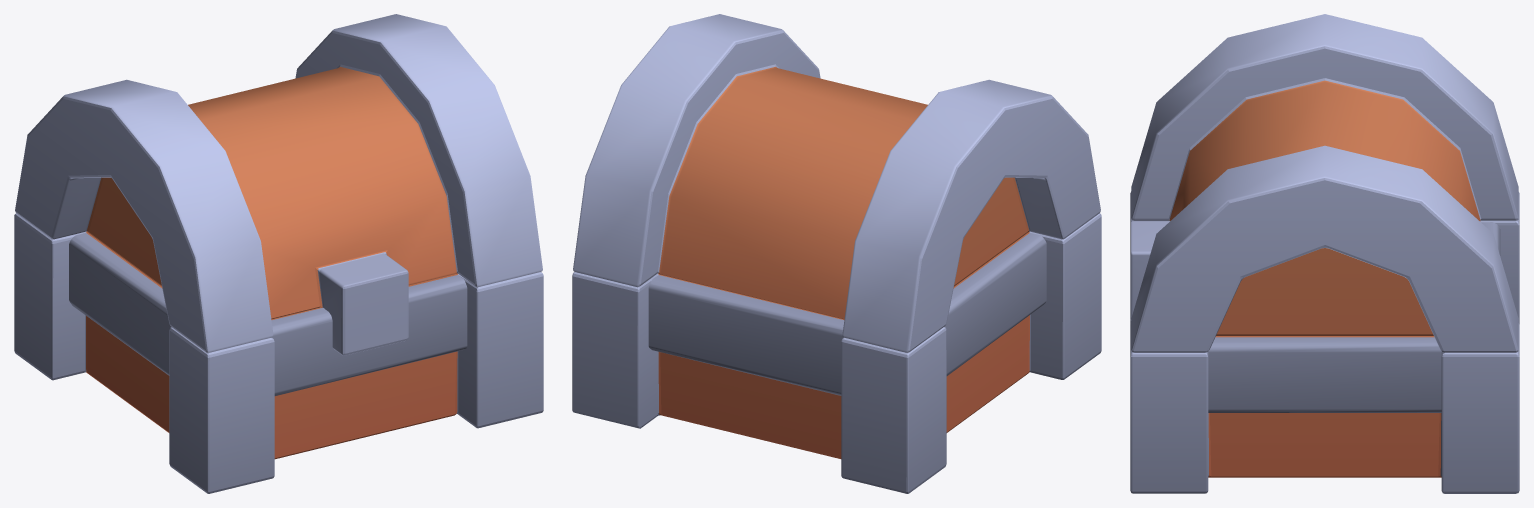
The model's file is kenney-mini-dungeon.glb.
3 renders of one model, left to right at view 1: azimuth 30°, elevation 25°; view 2: azimuth 150°, elevation 25°; view 3: azimuth 270°, elevation 25°, orthographic.
Visible parts, largest first — view 1: lid, chest; view 2: lid, chest; view 3: lid, chest.
Boxes of the visible parts, x1,y1,x2,y2 form: lid: (15, 14, 542, 355); chest: (14, 213, 543, 493); lid: (573, 14, 1100, 352); chest: (572, 213, 1101, 493); lid: (1130, 14, 1518, 352); chest: (1130, 191, 1519, 493).
Size of the model in its own units: 0.5 by 0.45 by 0.5.
1 material, 1 textured.
